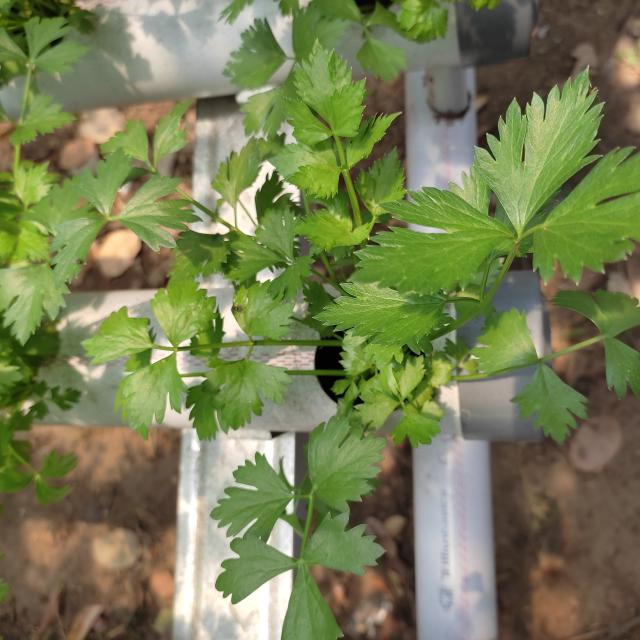Wet Waste: (132, 72, 627, 620)
